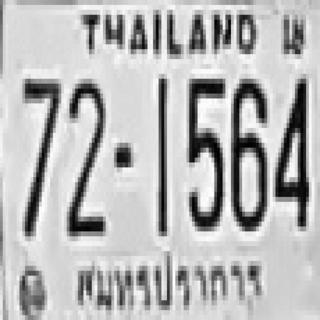N01: (156, 74, 167, 231)
N02: (65, 76, 104, 234)
N04: (273, 74, 306, 226)
N05: (186, 74, 223, 226)
N06: (230, 74, 266, 226)
N07: (20, 74, 58, 231)
P57: (71, 247, 268, 316)
